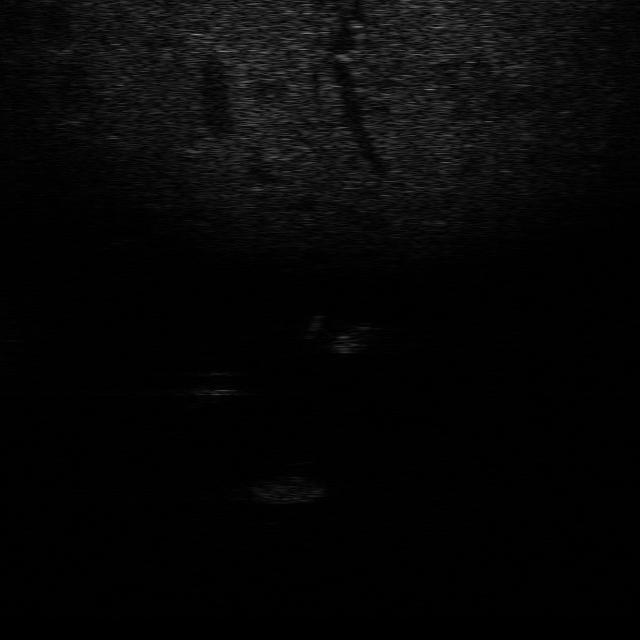ball: (188, 367, 246, 399)
circle cage: (244, 471, 328, 508)
human body: (302, 308, 376, 356)
